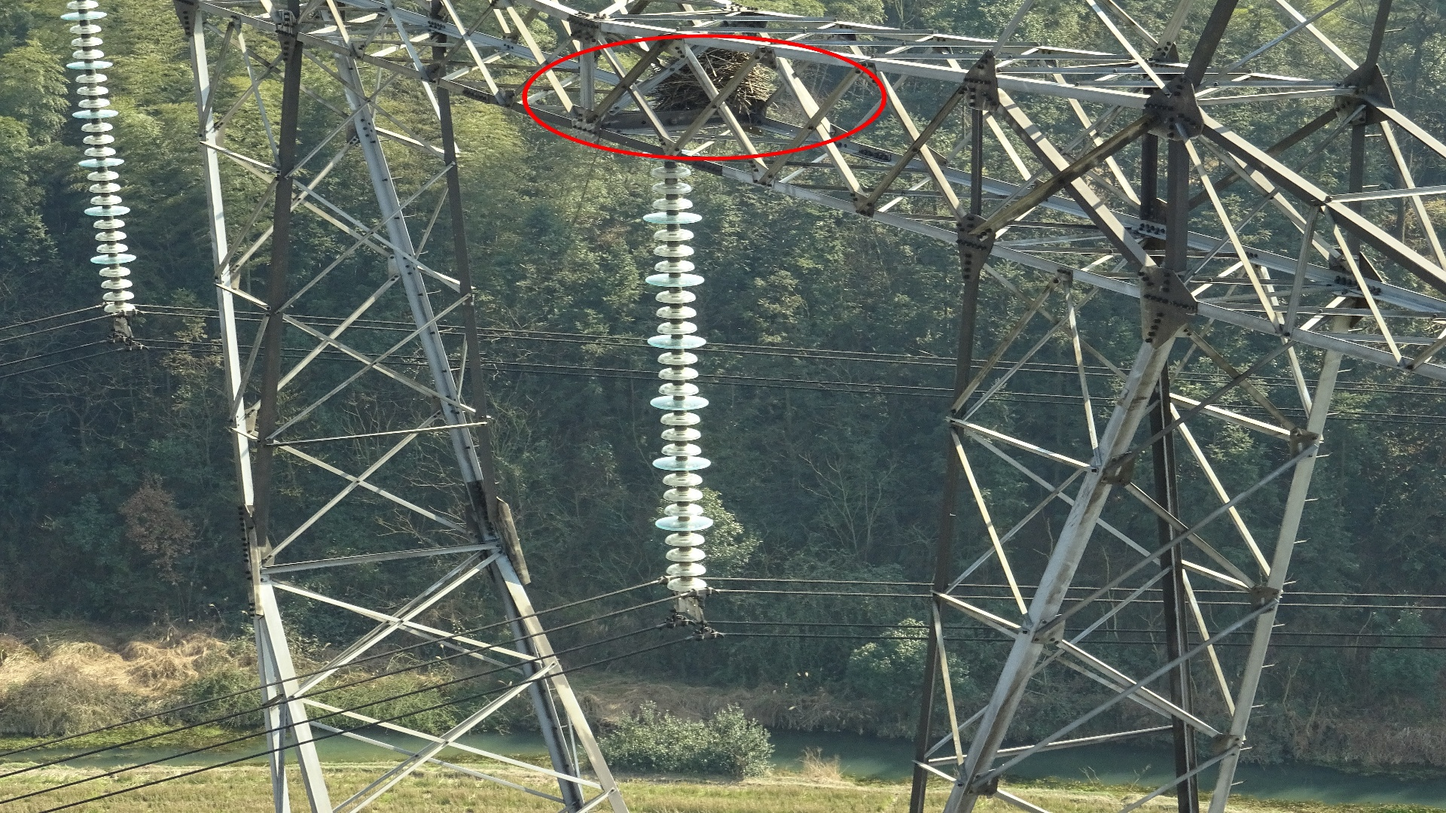insulator: (633, 163, 722, 601), (56, 1, 139, 321)
